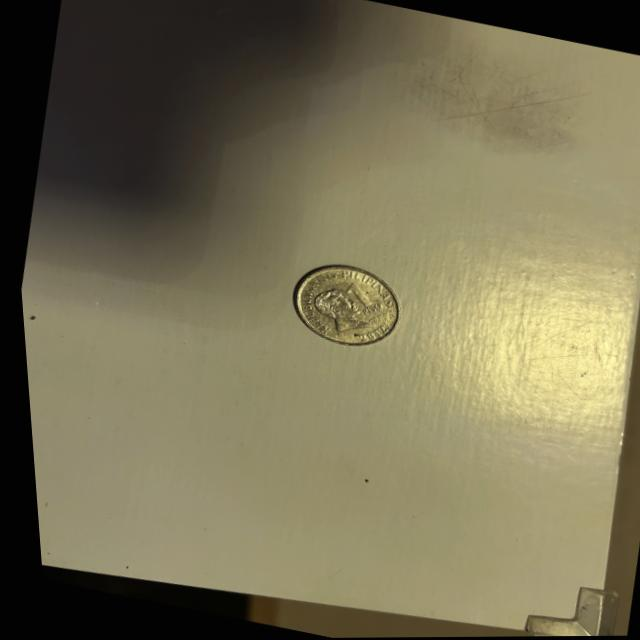1_Old_Front: (326, 279, 389, 319)
